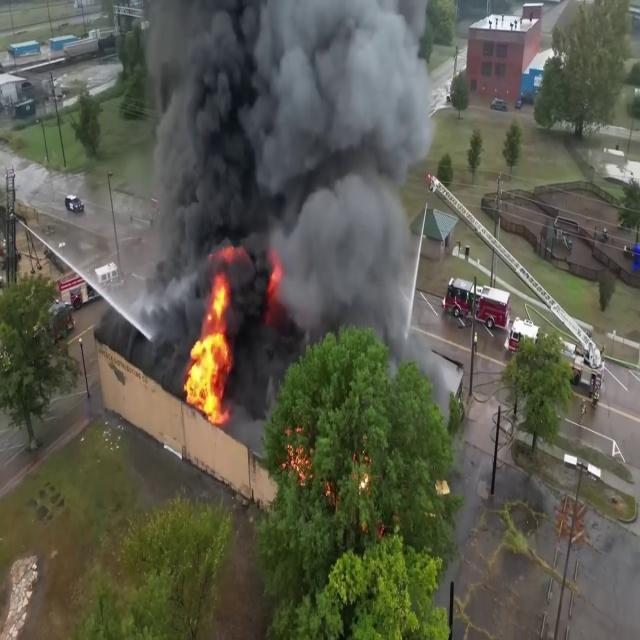Fire: (183, 274, 235, 422)
Smoke: (130, 1, 440, 359)
